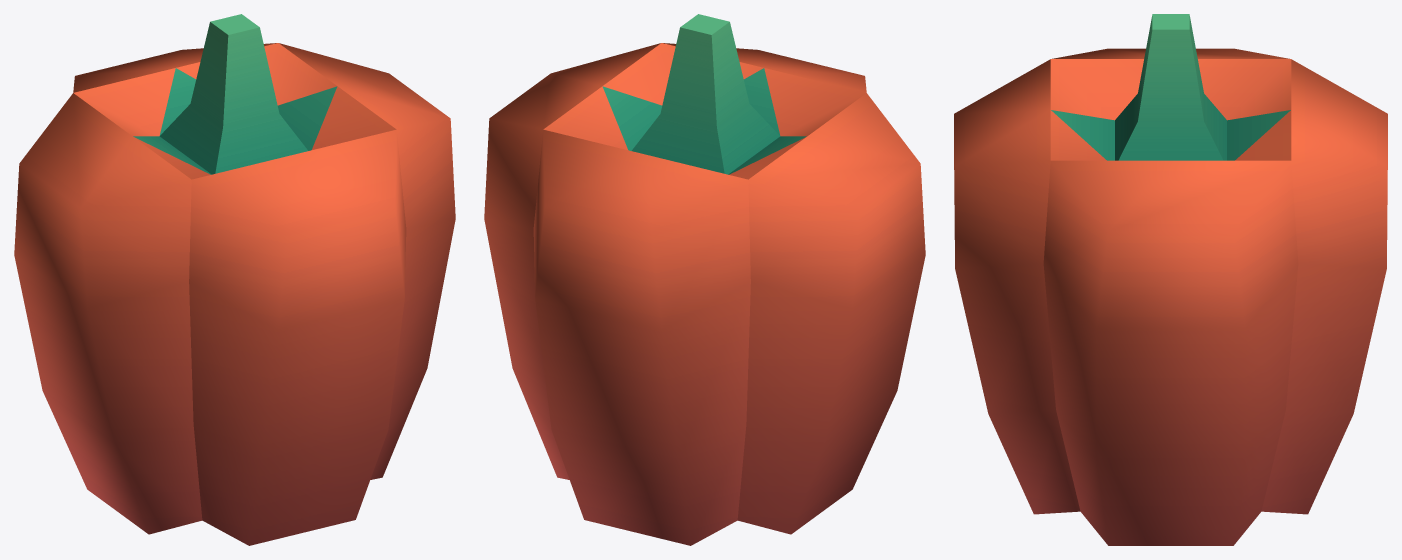
Rendered from pepper-harvest.glb.
3 renders of one model, left to right at view 1: azimuth 30°, elevation 25°; view 2: azimuth 150°, elevation 25°; view 3: azimuth 270°, elevation 25°, orthographic.
Visible parts, largest first — view 1: paprika; view 2: paprika; view 3: paprika.
Boxes of the visible parts, <box> form: paprika: <box>14,14,455,545</box>; paprika: <box>484,14,925,545</box>; paprika: <box>954,14,1387,545</box>.
Size of the model in its own units: 0.8431 by 1 by 0.8431.
Materials: 1 (1 with a texture image).
